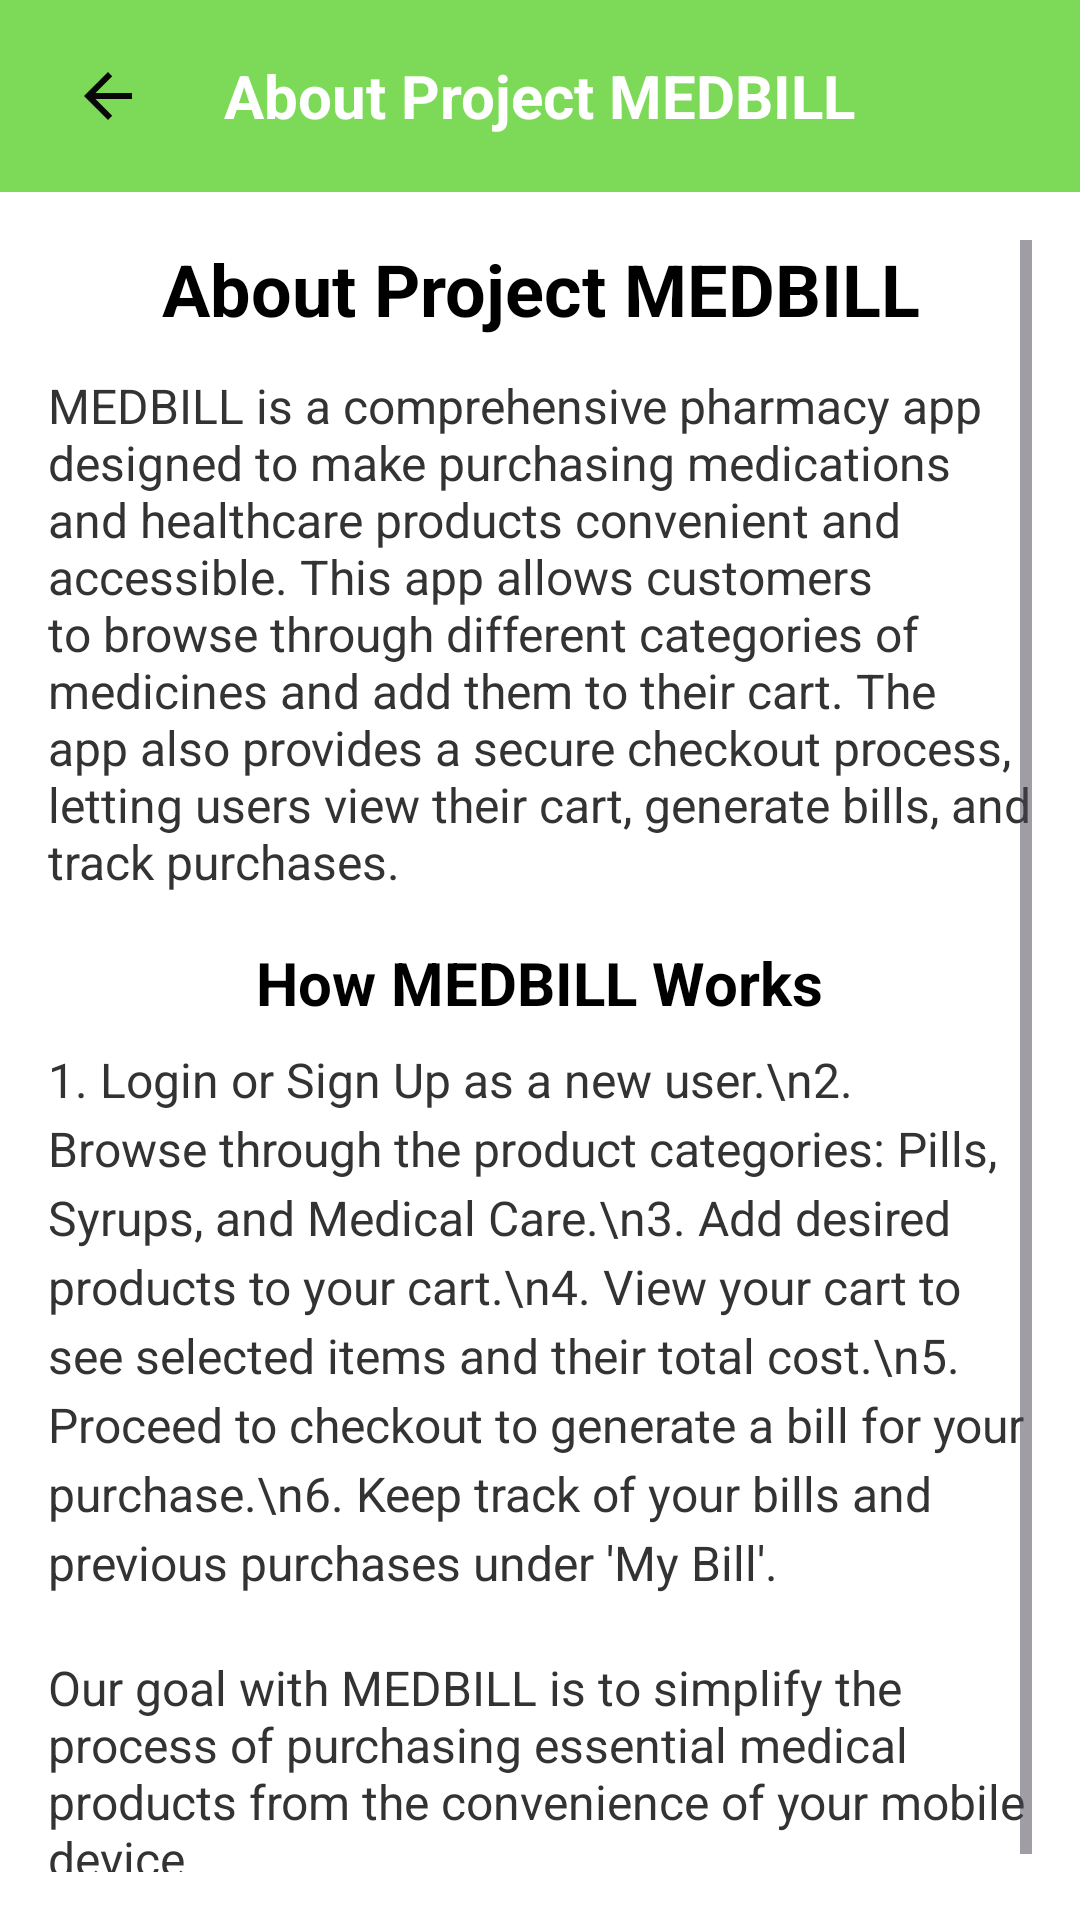

Icon click points for this 1080w x 1920h phone screenshot, format (x=x, y=y):
Back: (x=108, y=96)
